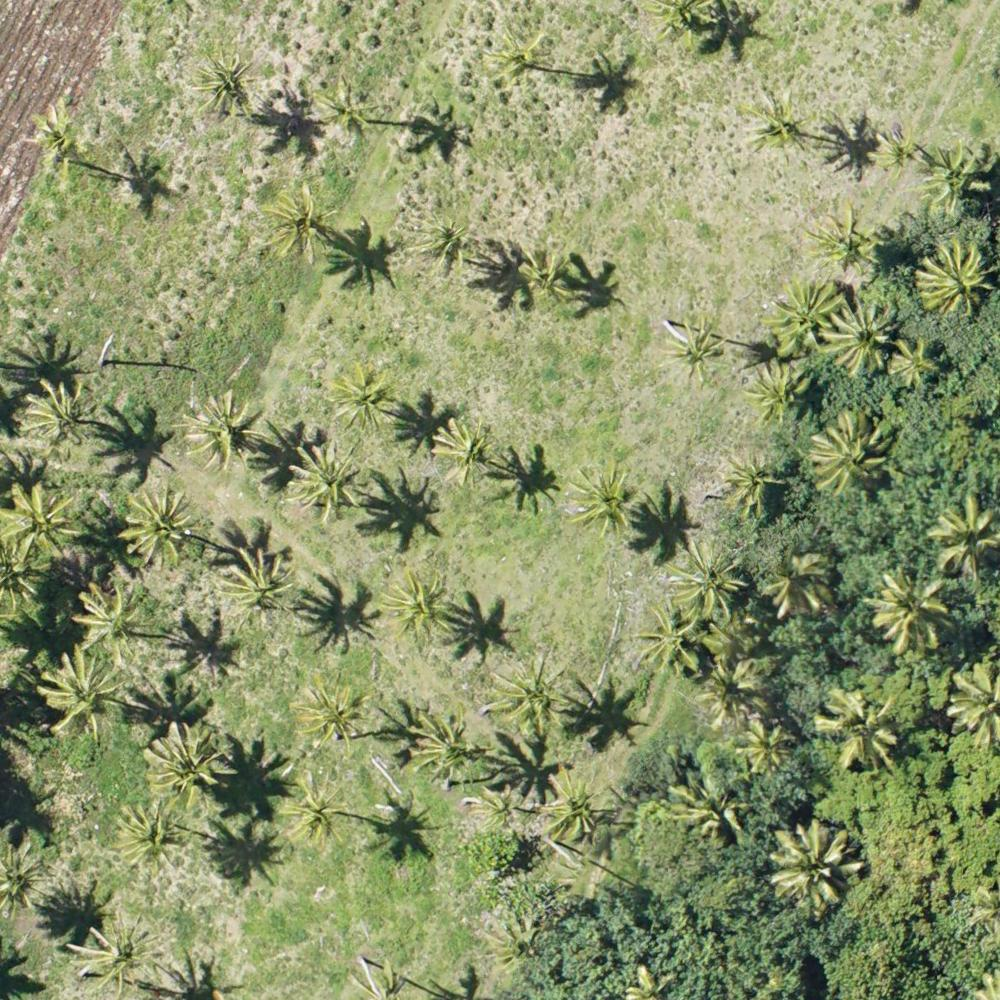Palm: (773, 822, 862, 916), (39, 652, 122, 744), (145, 724, 233, 809), (489, 652, 574, 739), (69, 915, 159, 995), (870, 569, 951, 657), (812, 417, 898, 494), (818, 683, 895, 768), (667, 536, 745, 619), (823, 294, 900, 377), (180, 395, 259, 475), (914, 240, 996, 317), (537, 765, 613, 848), (702, 648, 780, 727), (17, 377, 95, 456), (289, 443, 366, 522), (108, 805, 188, 881), (76, 583, 152, 661), (224, 546, 300, 622), (299, 679, 373, 757), (930, 494, 1000, 575), (1, 486, 73, 564), (767, 281, 842, 354), (261, 185, 332, 261), (430, 413, 501, 488), (918, 147, 993, 217), (411, 709, 484, 780), (276, 772, 346, 846), (126, 492, 195, 567), (325, 363, 395, 435), (384, 573, 453, 646), (806, 210, 881, 276), (632, 602, 699, 675), (566, 466, 636, 535), (193, 48, 266, 114), (743, 360, 812, 428), (309, 74, 378, 142), (30, 102, 91, 175), (739, 96, 809, 159), (764, 549, 830, 615), (517, 242, 580, 311), (667, 313, 729, 383), (719, 450, 784, 516), (482, 31, 550, 93), (408, 207, 469, 271), (890, 336, 940, 388), (740, 719, 790, 767), (479, 783, 526, 833), (869, 129, 918, 174)
